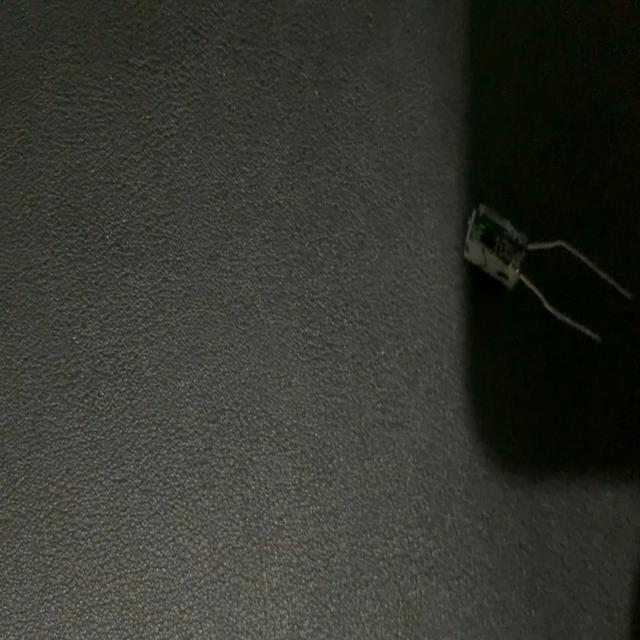capacitor: (462, 199, 636, 352)
